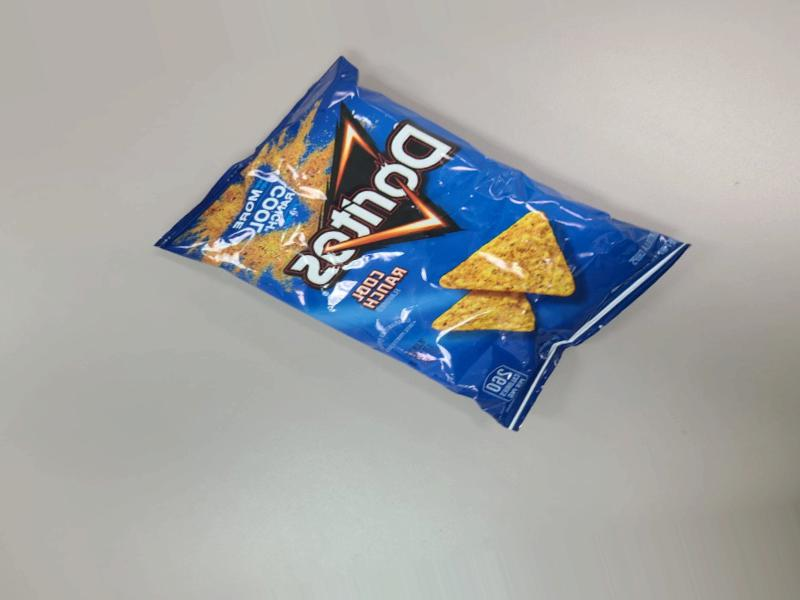doritos: (180, 143, 769, 474)
